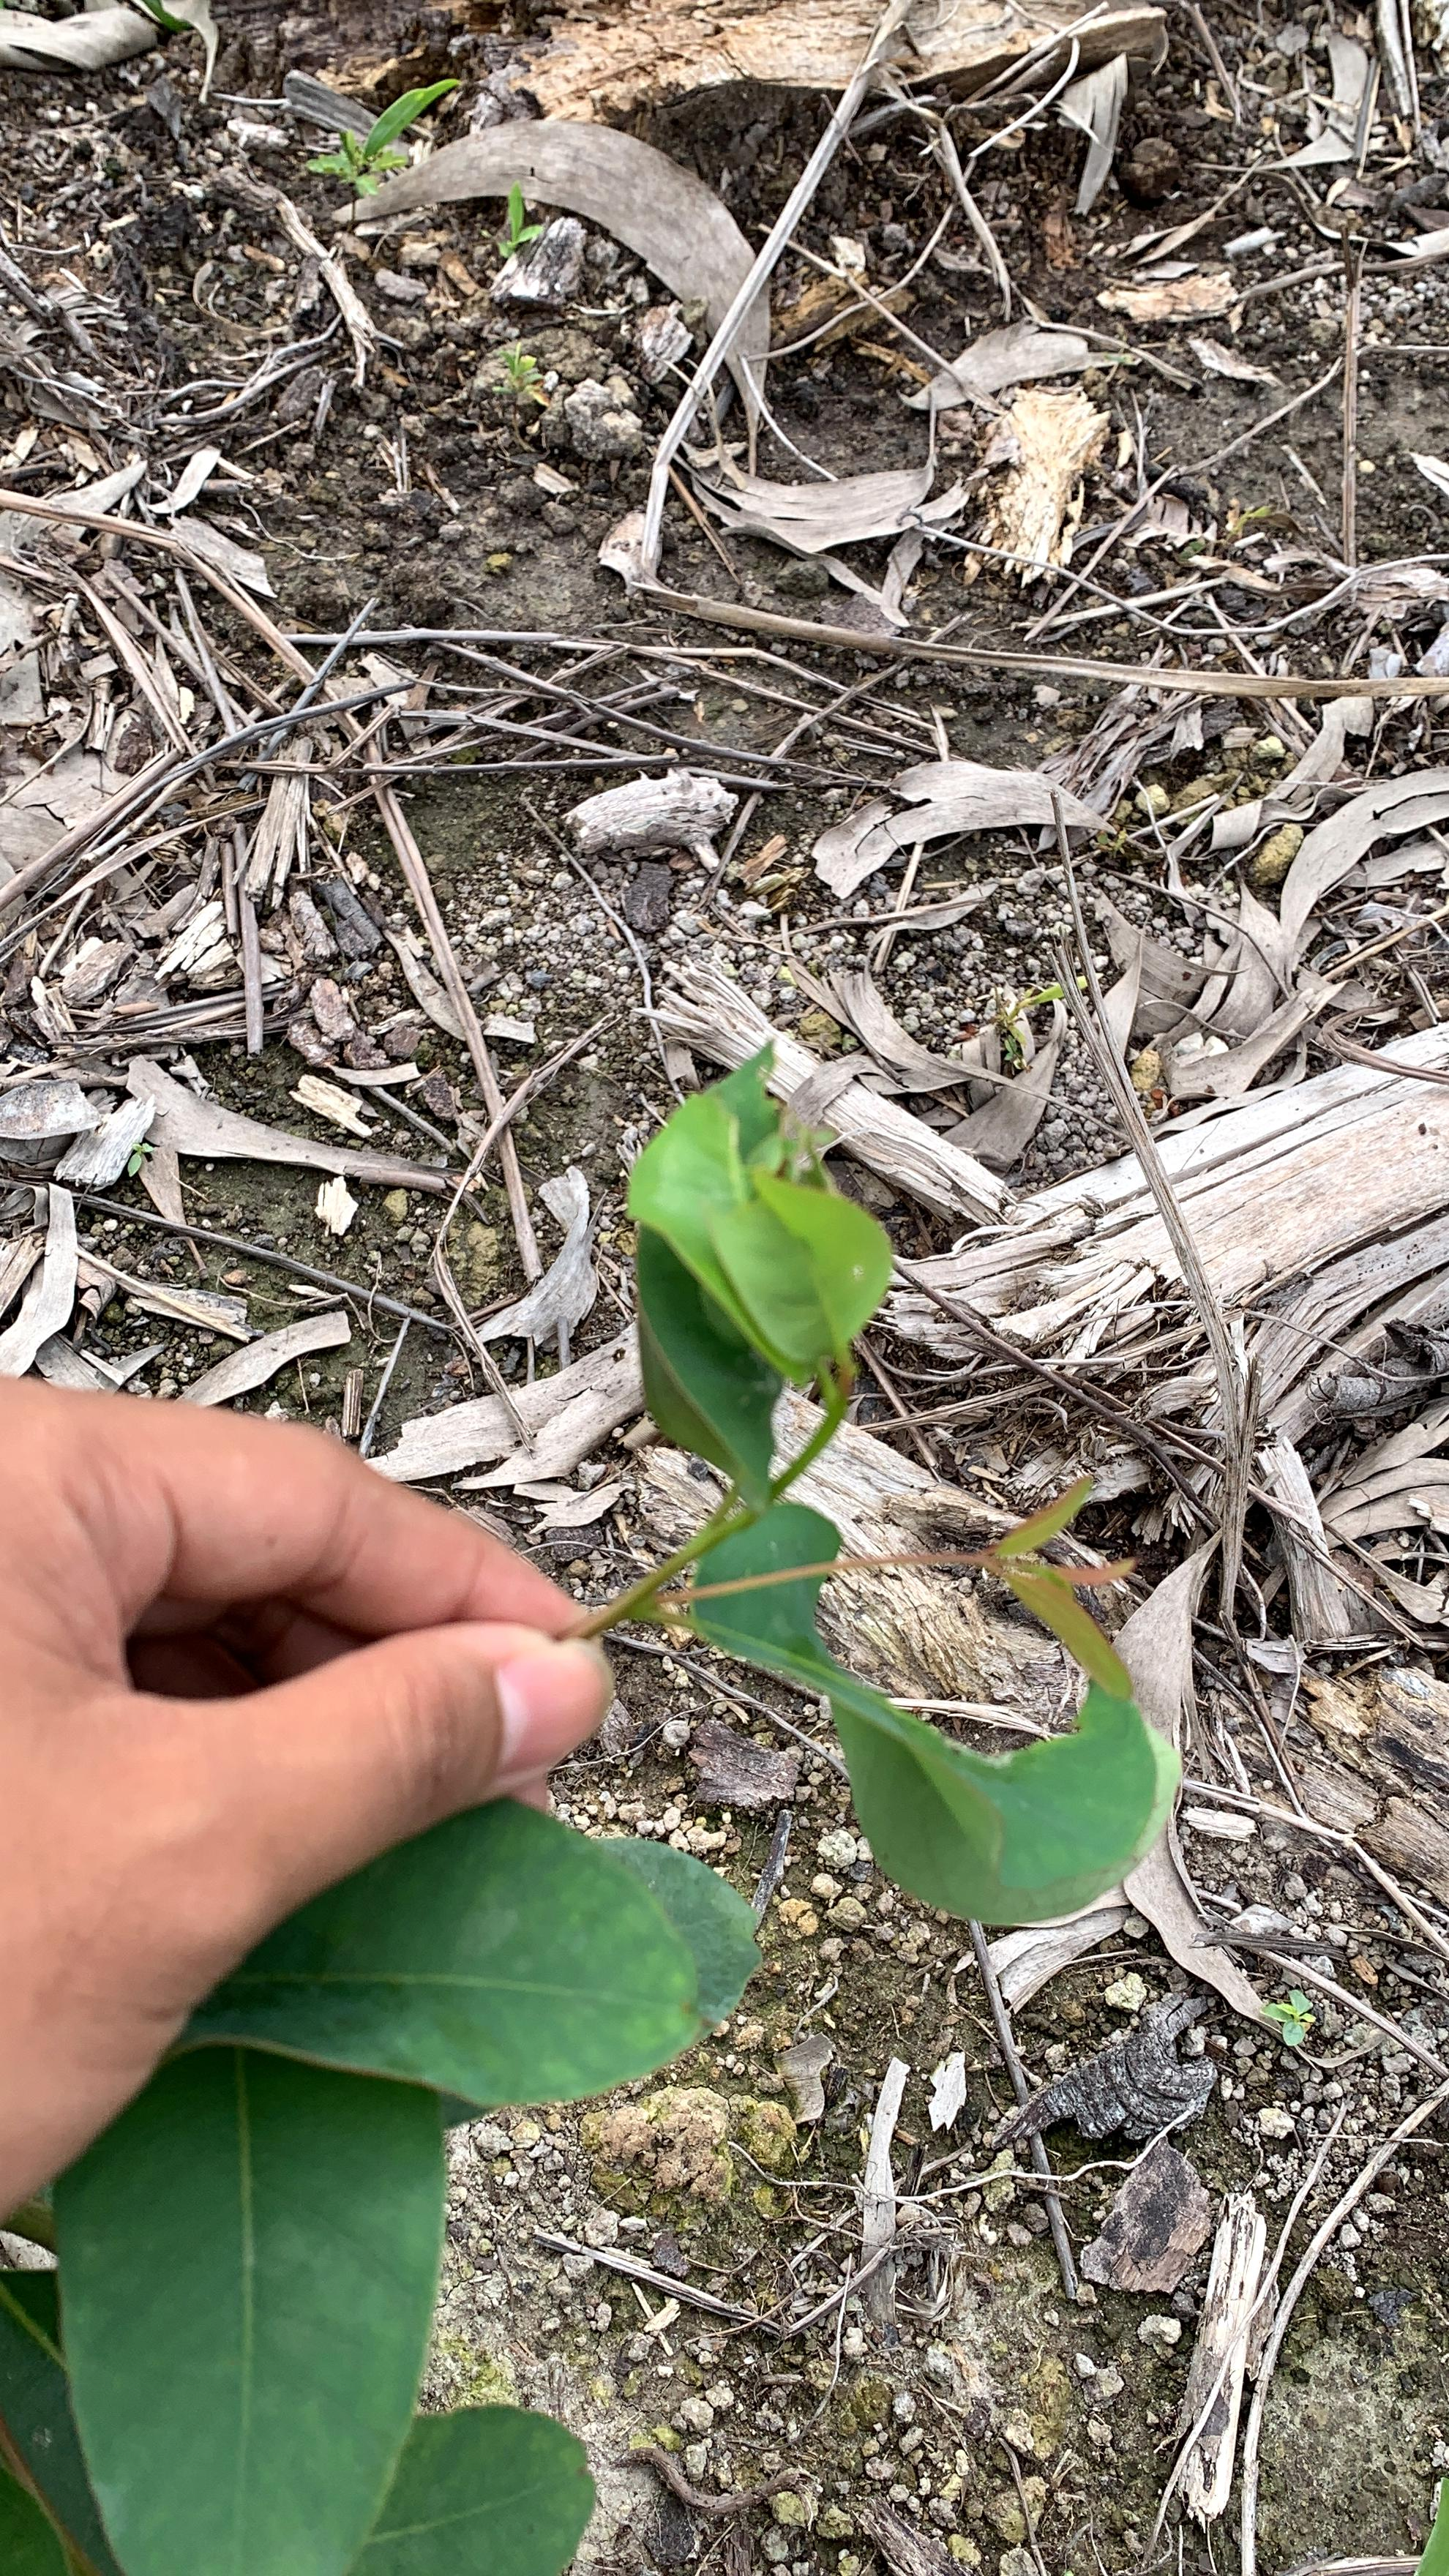Leaf Roller - Leaf: (615, 1095, 896, 1510)
